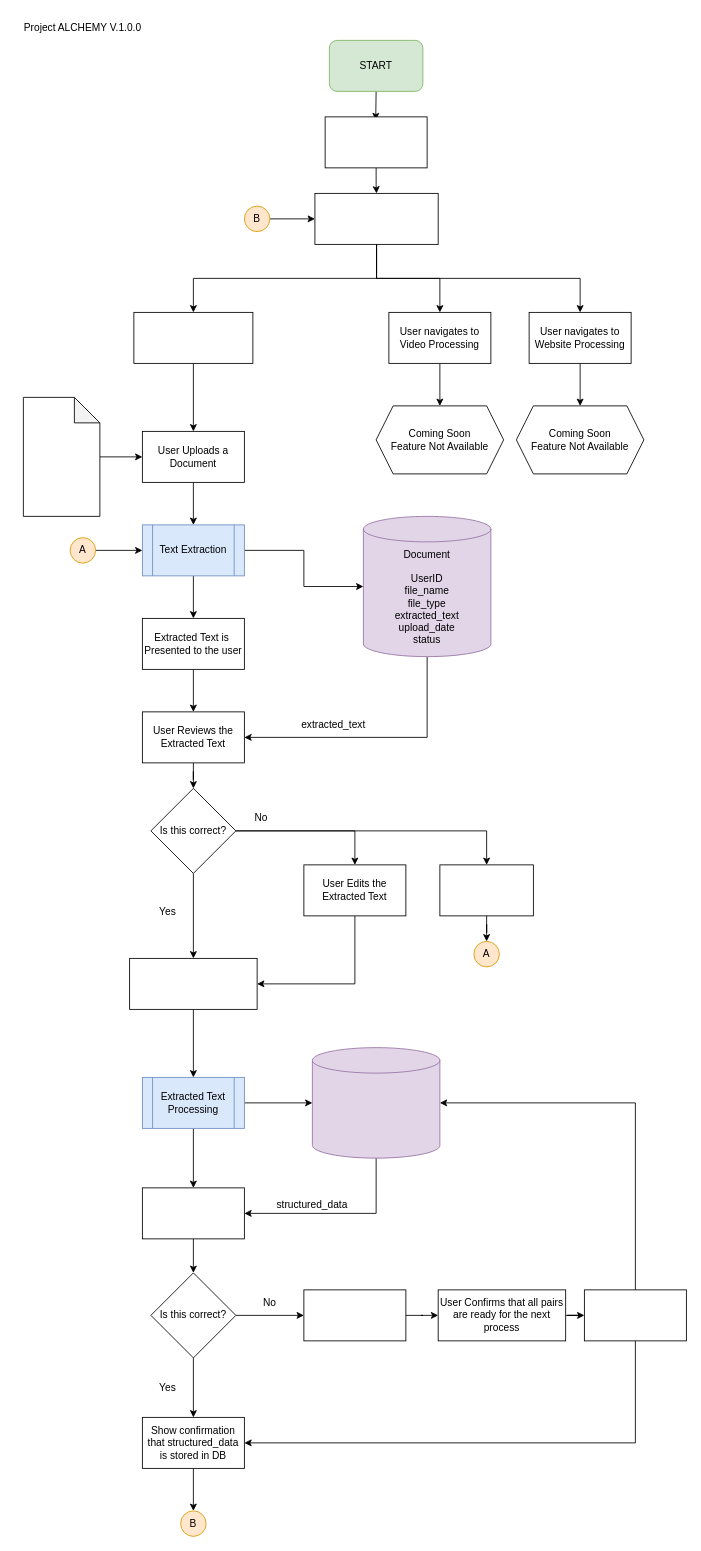
This 701x1551 diagram has some shape labels left out. The box of each missing label's shape, as (x1, y1, x2, y2) in pixels:
Document PDF Word Text: (23, 397, 100, 516)
ProcessedData is updated: (584, 1289, 686, 1341)
ProcessedData structured_data processed_date: (312, 1047, 440, 1158)
User chose to upload a new document: (439, 864, 533, 916)
User Confirms that extracted_text is ready for the next process: (129, 958, 257, 1009)
User edits the Question and Answer Pair: (303, 1289, 406, 1341)
User is directed to the main dashboard: (314, 193, 438, 244)
User Logs In and is Authenticated: (324, 116, 427, 168)
User navigates to Documents Processing: (133, 312, 253, 363)
User Reviews the structured_data: (142, 1187, 244, 1239)
